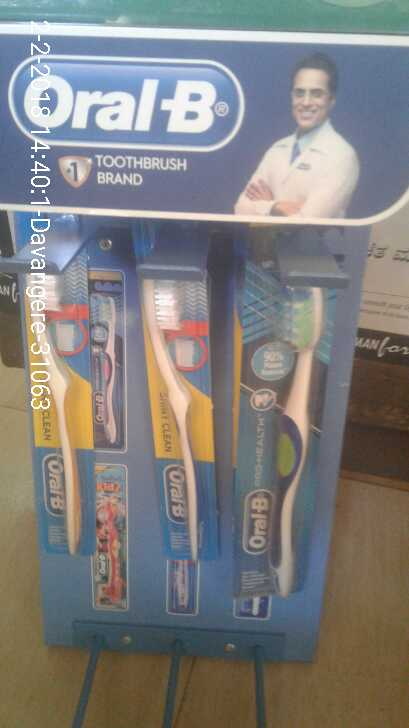oralb: (19, 246, 114, 569), (234, 262, 316, 611), (139, 256, 225, 563)
